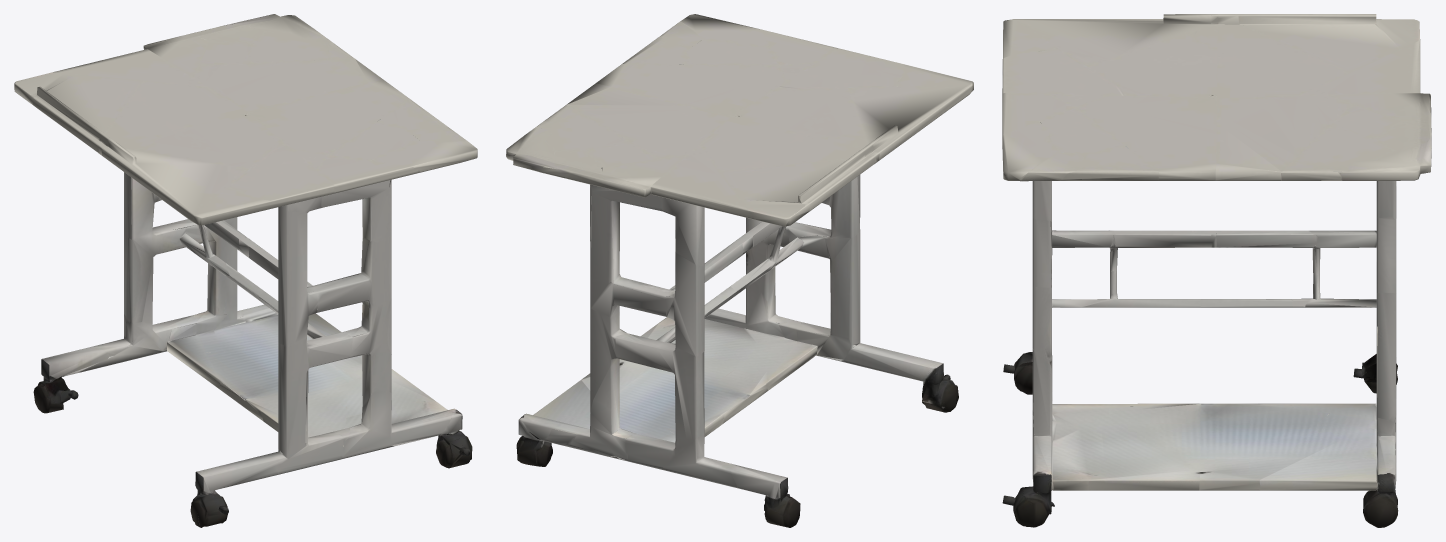
Rendered from mesa.glb.
The picture shows the model from 3 angles, left to right: view 1: azimuth 30°, elevation 25°; view 2: azimuth 150°, elevation 25°; view 3: azimuth 270°, elevation 25°; orthographic projection. The views are drawn at different scales.
Visible parts, largest first — view 1: tripo_node_2b3657dd-6f44-41a2-a48e-432e86b774df; view 2: tripo_node_2b3657dd-6f44-41a2-a48e-432e86b774df; view 3: tripo_node_2b3657dd-6f44-41a2-a48e-432e86b774df.
Boxes of the visible parts, x1,y1,x2,y2 form: tripo_node_2b3657dd-6f44-41a2-a48e-432e86b774df: [14, 14, 477, 527]; tripo_node_2b3657dd-6f44-41a2-a48e-432e86b774df: [506, 14, 973, 527]; tripo_node_2b3657dd-6f44-41a2-a48e-432e86b774df: [1002, 14, 1431, 527].
Size of the model in its own units: 0.8469 by 0.9428 by 0.9999.
Materials: 1 (1 with a texture image).
